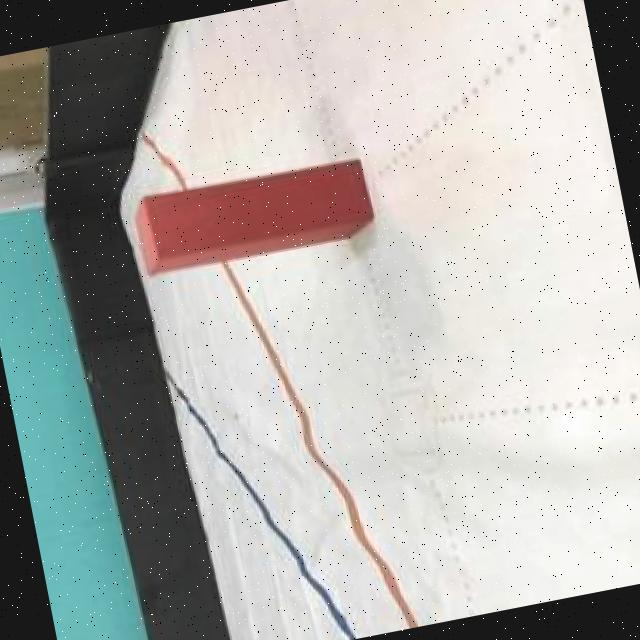redbox: (124, 152, 386, 276)
